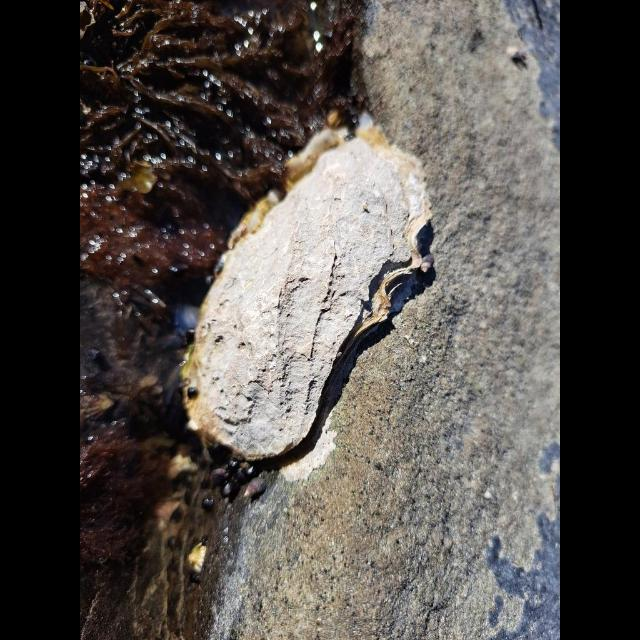Oyster-Open: (180, 124, 436, 466)
